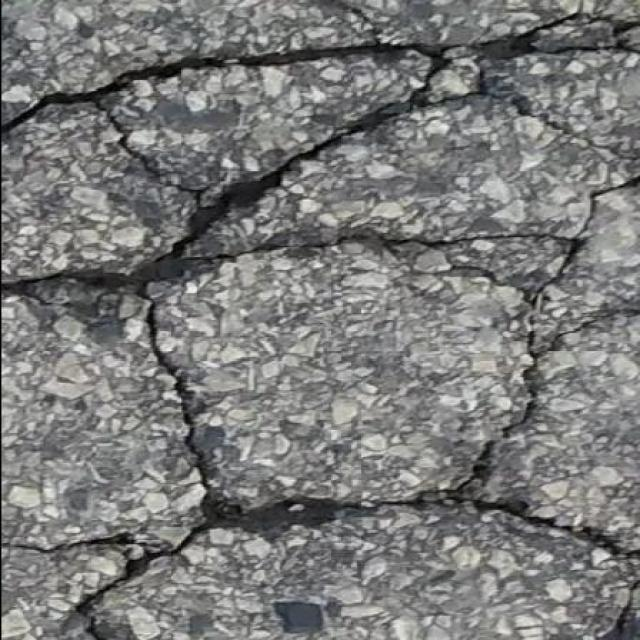Crack: (1, 42, 640, 640), (476, 10, 640, 70), (321, 0, 360, 29)
